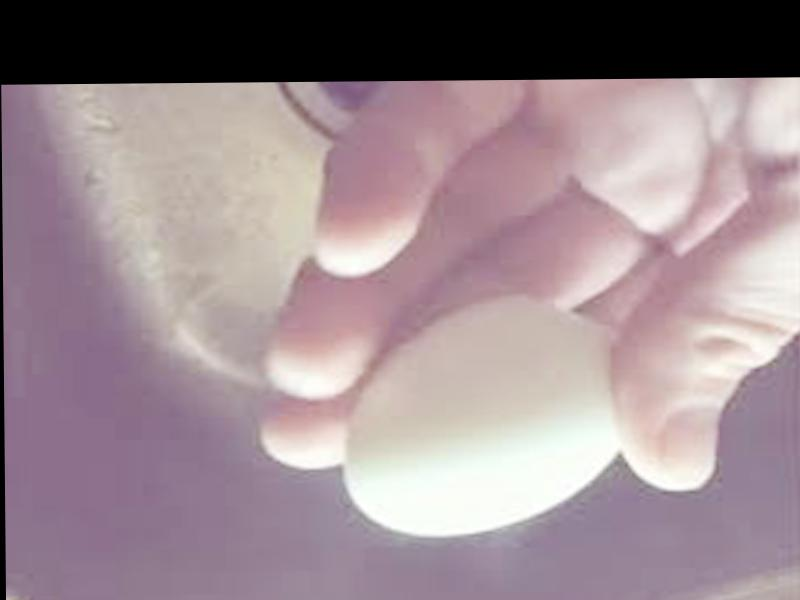Eggs: (348, 302, 626, 537)
